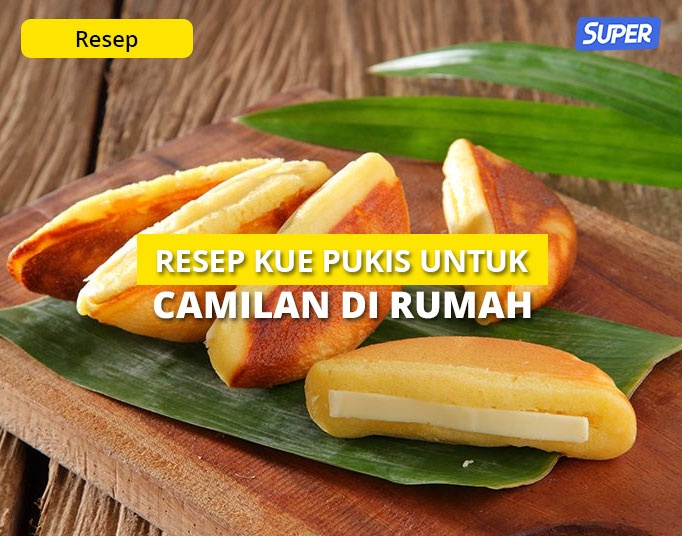pukis: (244, 307, 668, 501)
